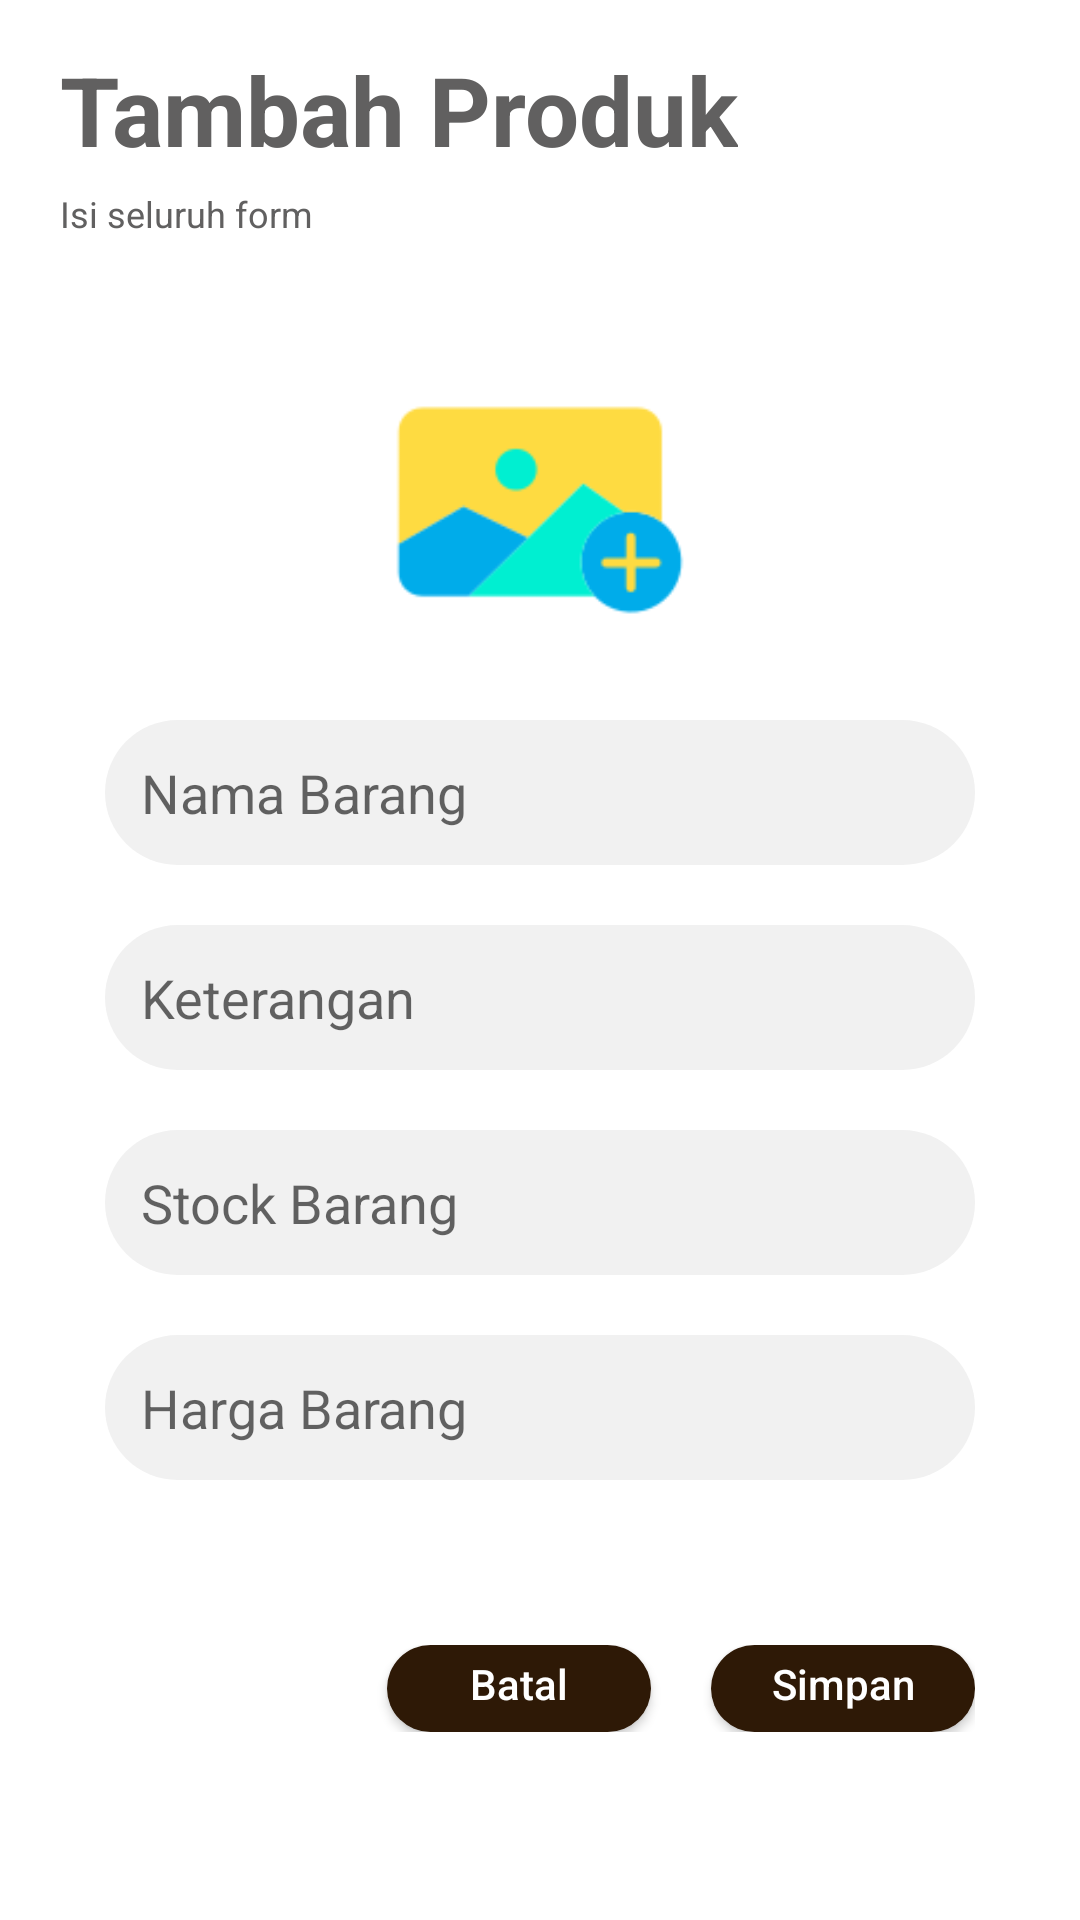

Where icons sit on this 1080*1920 app screen, as (x1, y1, x2, y2):
add: (397, 406, 683, 614)
